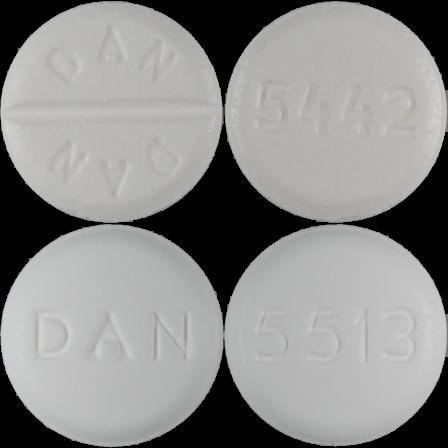0591-5442: (0, 0, 224, 224)
